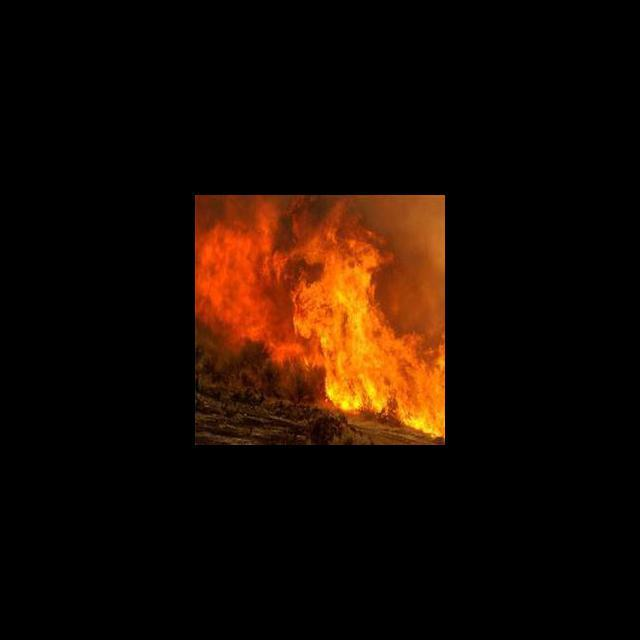Fire: (196, 195, 445, 437)
